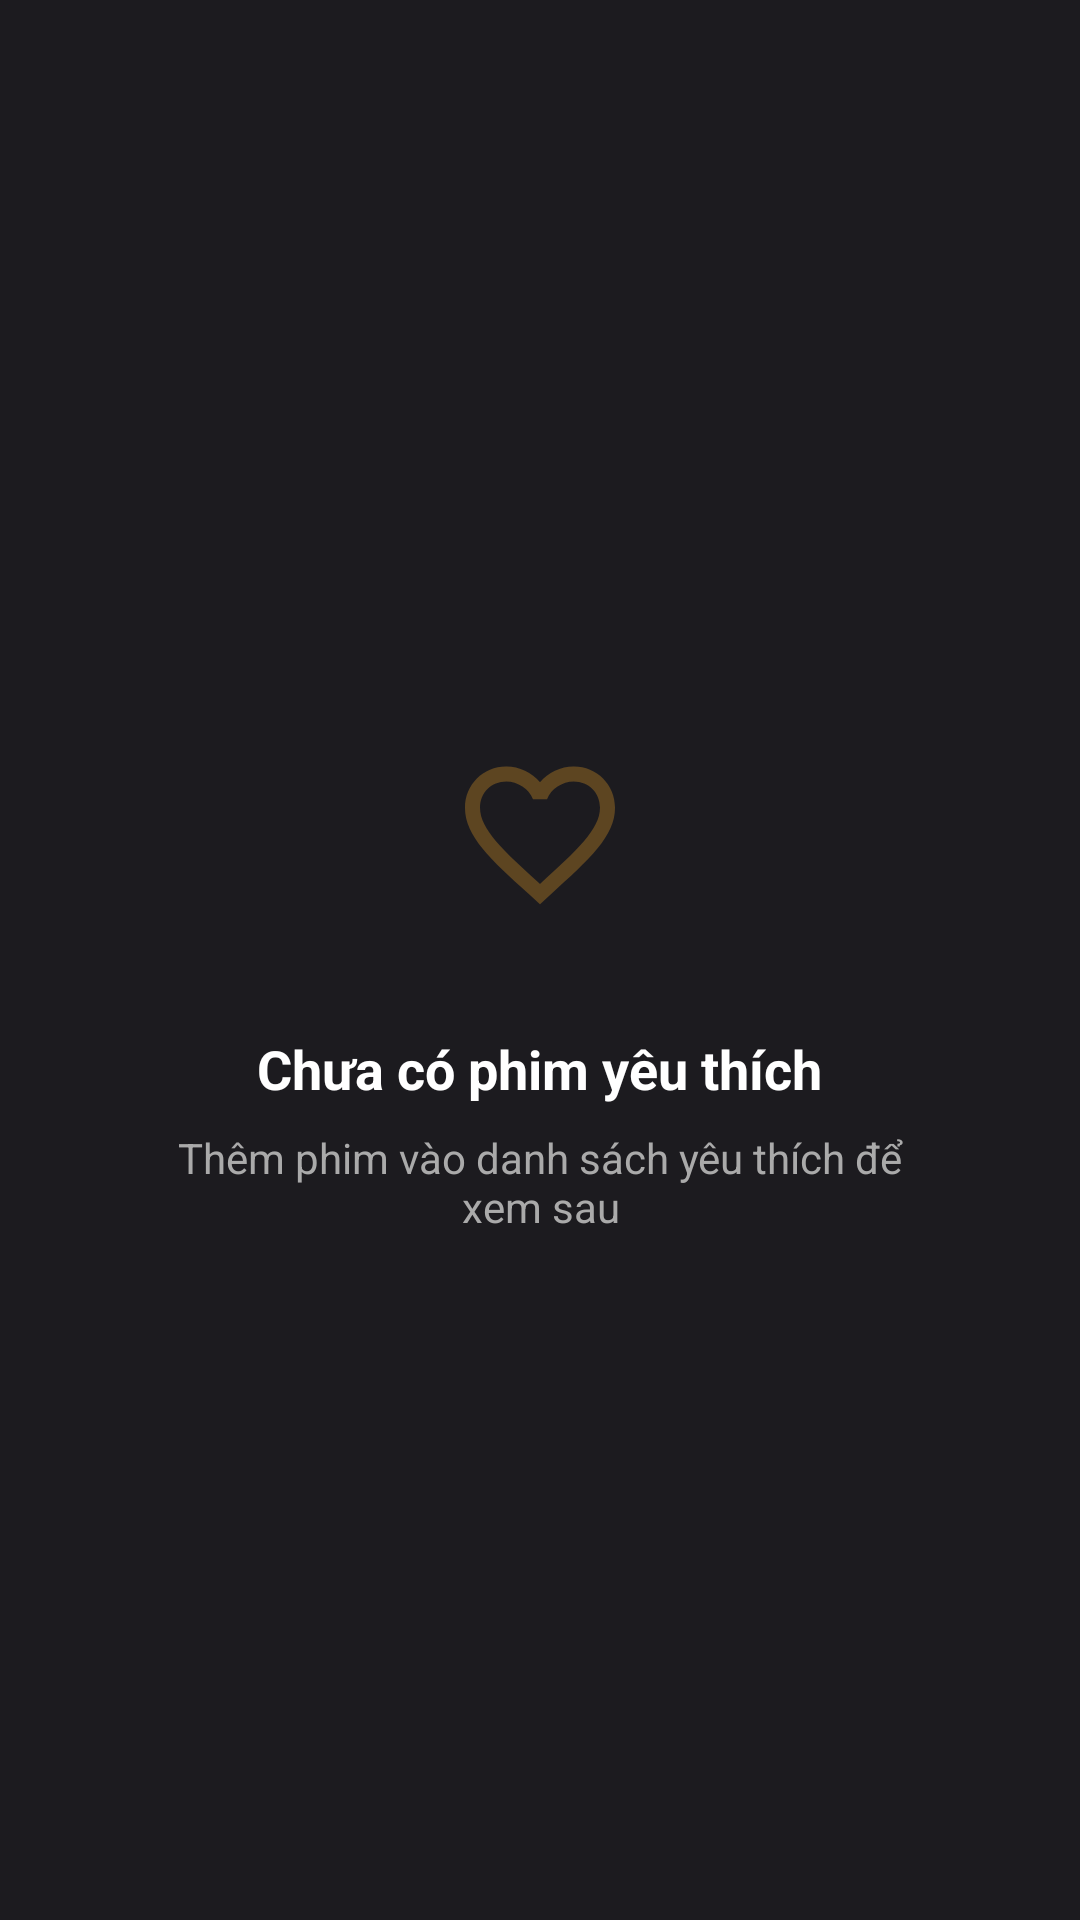

Icon bounding boxes for this 1080x1920 phone screenshot, format (x1, y1, x2, y2):
wishlist: (465, 766, 615, 904)
